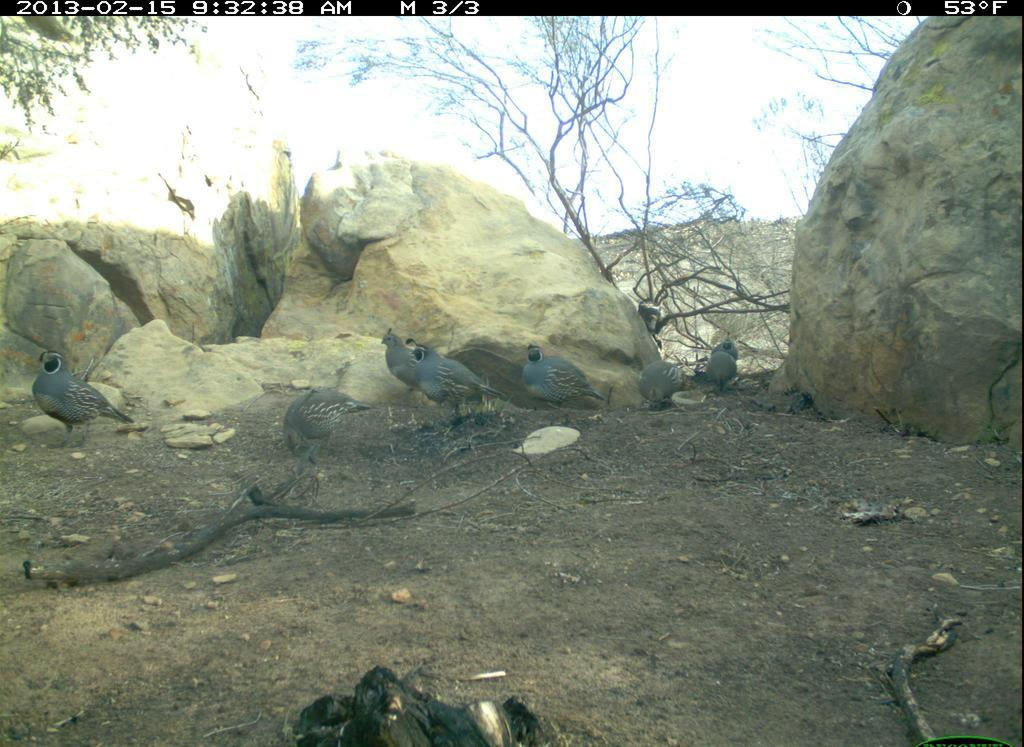bird: (30, 342, 139, 443), (404, 335, 510, 422), (280, 383, 374, 469), (521, 340, 607, 418), (381, 332, 429, 393), (637, 358, 687, 411), (706, 350, 740, 391), (711, 332, 743, 364)
